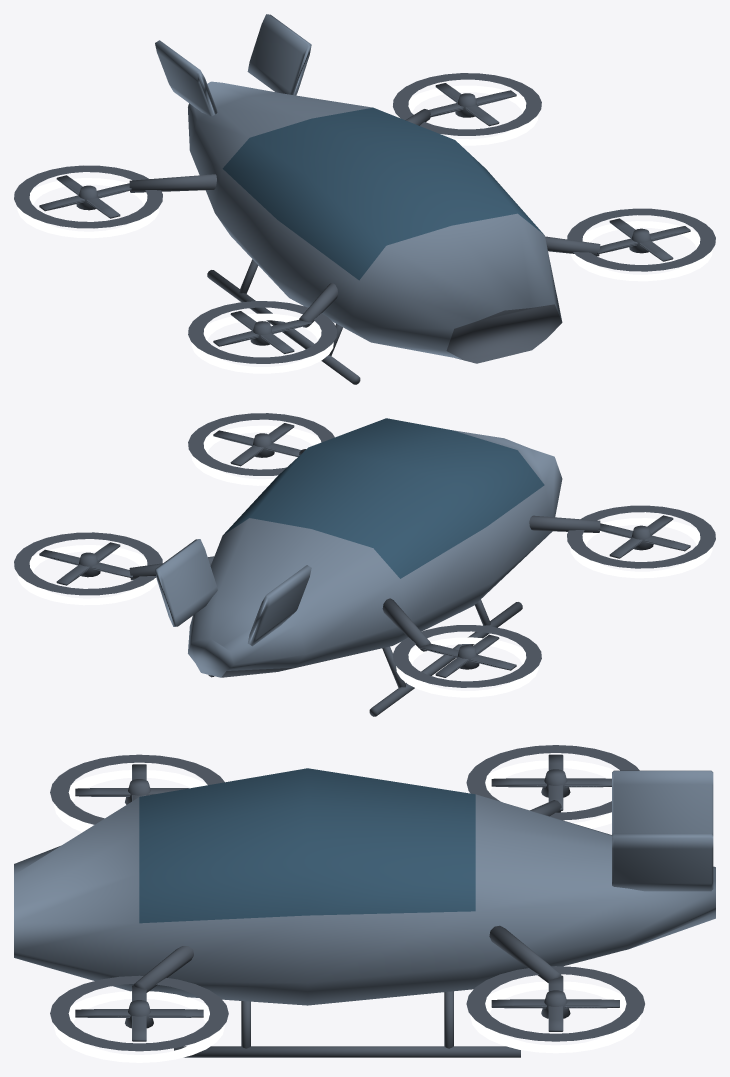
The model's file is drone.glb.
3 views of the same model, one above another, from view 1: azimuth 30°, elevation 25°; view 2: azimuth 150°, elevation 25°; view 3: azimuth 270°, elevation 25° (orthographic). The views are drawn at different scales.
Visible parts, largest first — view 1: body, rotor-0, rotor-2, rotor-1, rotor-3; view 2: body, rotor-2, rotor-3, rotor-0, rotor-1; view 3: body, rotor-3, rotor-1, rotor-2, rotor-0.
Part boxes in pixels (bbox=[...]): body: bbox=[14, 14, 715, 384]; rotor-0: bbox=[213, 311, 311, 353]; rotor-2: bbox=[39, 175, 131, 218]; rotor-1: bbox=[597, 218, 690, 261]; rotor-3: bbox=[428, 83, 516, 126]; body: bbox=[14, 413, 715, 716]; rotor-2: bbox=[418, 634, 516, 677]; rotor-3: bbox=[39, 542, 133, 585]; rotor-0: bbox=[598, 515, 690, 558]; rotor-1: bbox=[213, 423, 301, 466]; body: bbox=[14, 745, 715, 1062]; rotor-3: bbox=[491, 975, 619, 1031]; rotor-1: bbox=[75, 985, 203, 1041]; rotor-2: bbox=[491, 754, 611, 810]; rotor-0: bbox=[75, 764, 188, 804].
Size of the model in its own units: 2.63 by 0.858 by 2.63.
